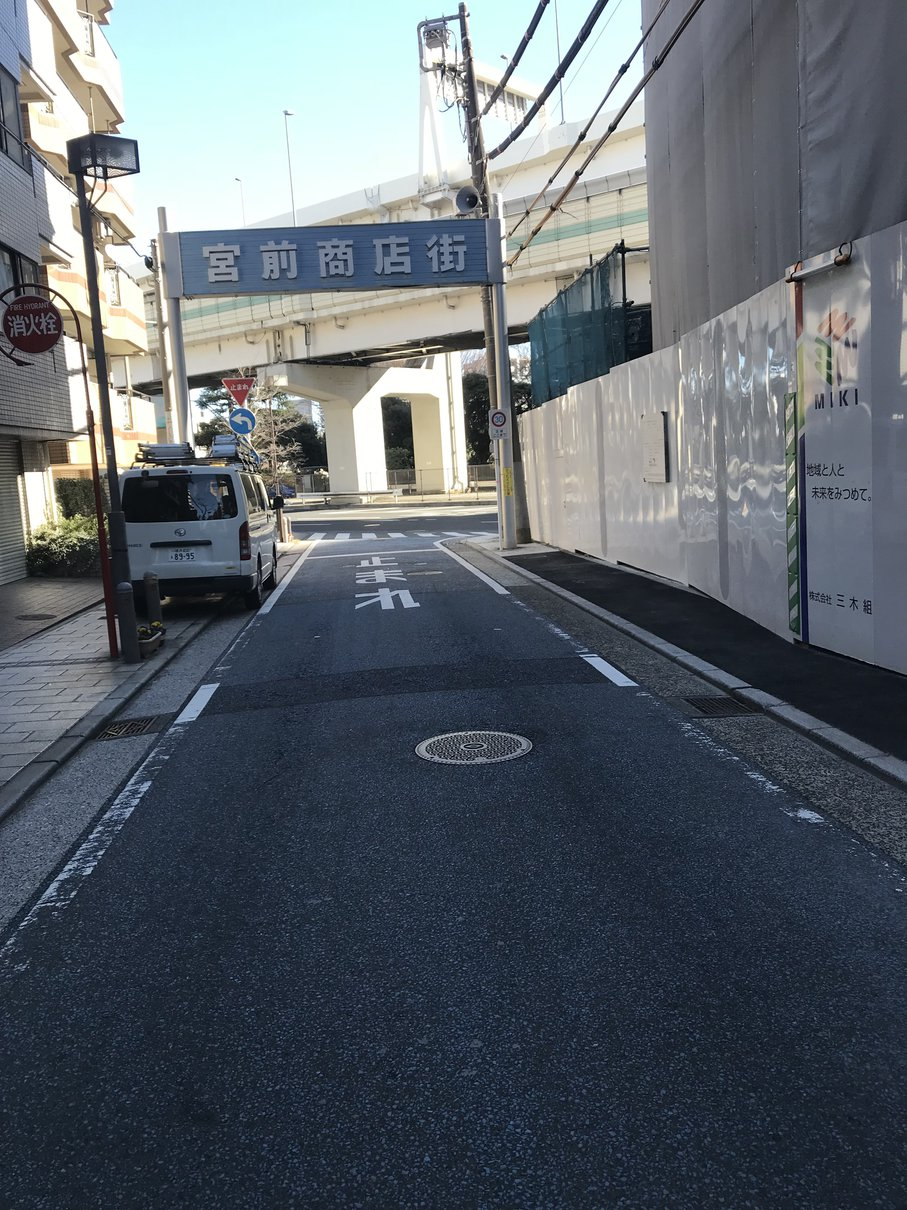stop_sign: (220, 375, 256, 407)
